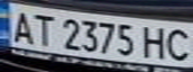2: (57, 15, 81, 51)
3: (78, 17, 100, 53)
5: (115, 20, 142, 57)
7: (97, 19, 118, 55)
A: (6, 7, 36, 44)
C: (163, 26, 193, 62)
H: (139, 24, 172, 60)
T: (27, 11, 57, 47)
